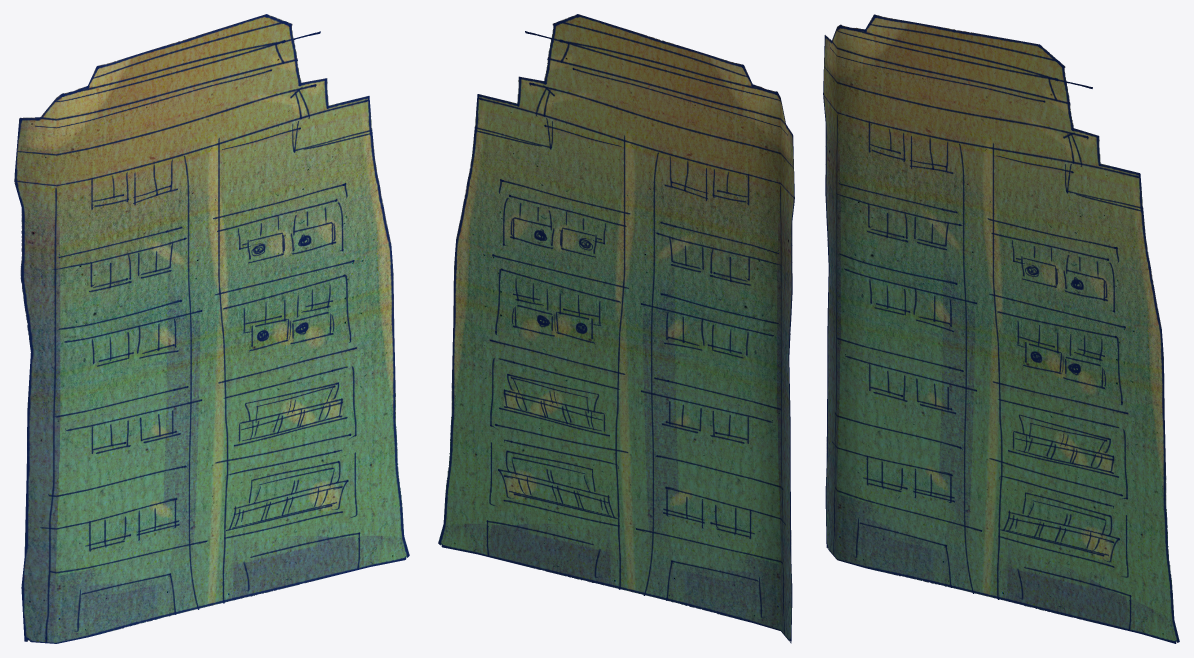
Rendered from 02_mid_bld_02.fbx.
The picture shows the model from 3 angles, left to right: view 1: azimuth 30°, elevation 25°; view 2: azimuth 150°, elevation 25°; view 3: azimuth 330°, elevation 25°; orthographic projection. The views are drawn at different scales.
Parts seen in each view (by area): view 1: 02_中_房子_02; view 2: 02_中_房子_02; view 3: 02_中_房子_02.
Part boxes in pixels (bbox=[...]): 02_中_房子_02: bbox=[14, 14, 409, 643]; 02_中_房子_02: bbox=[438, 14, 794, 643]; 02_中_房子_02: bbox=[823, 14, 1179, 643].
Size of the model in its own units: 64.33 by 93.71 by 4.46.
Materials: 1 (1 with a texture image).
